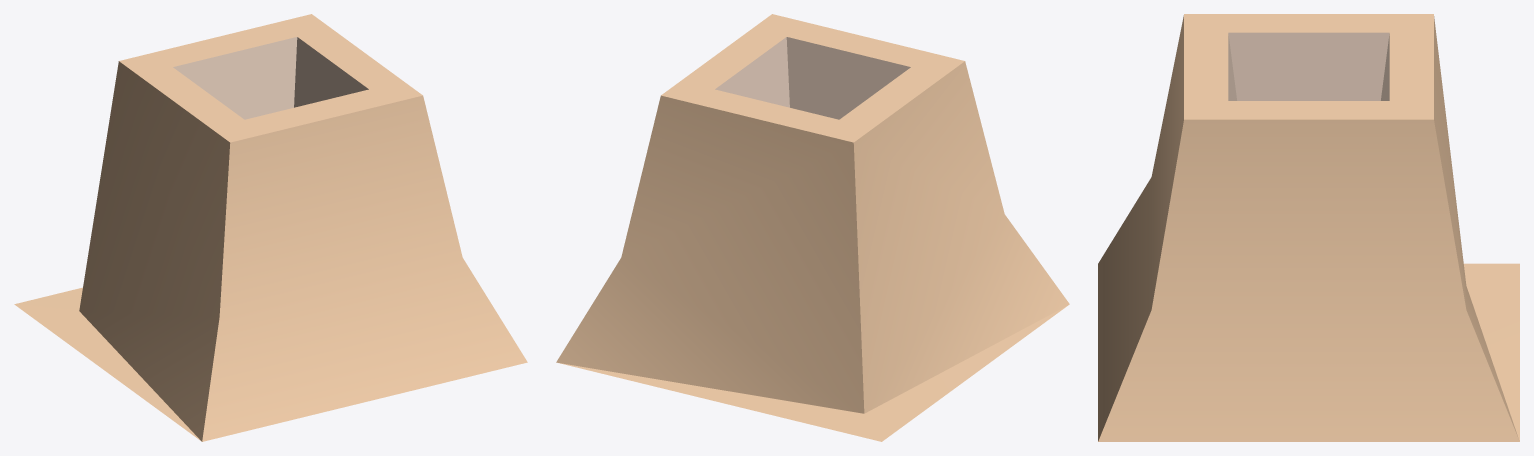
The model's file is treeStump_deep.glb.
3 renders of one model, left to right at view 1: azimuth 30°, elevation 25°; view 2: azimuth 150°, elevation 25°; view 3: azimuth 270°, elevation 25°, orthographic. The views are drawn at different scales.
Parts seen in each view (by area): view 1: treeStump_deep; view 2: treeStump_deep; view 3: treeStump_deep.
Part boxes in pixels (box(x1,y1,x2,y2)): treeStump_deep: box(14, 14, 527, 441); treeStump_deep: box(556, 14, 1069, 441); treeStump_deep: box(1098, 14, 1519, 441).
Bounding box in the file's own units: 0.2813 × 0.2105 × 0.2813.
